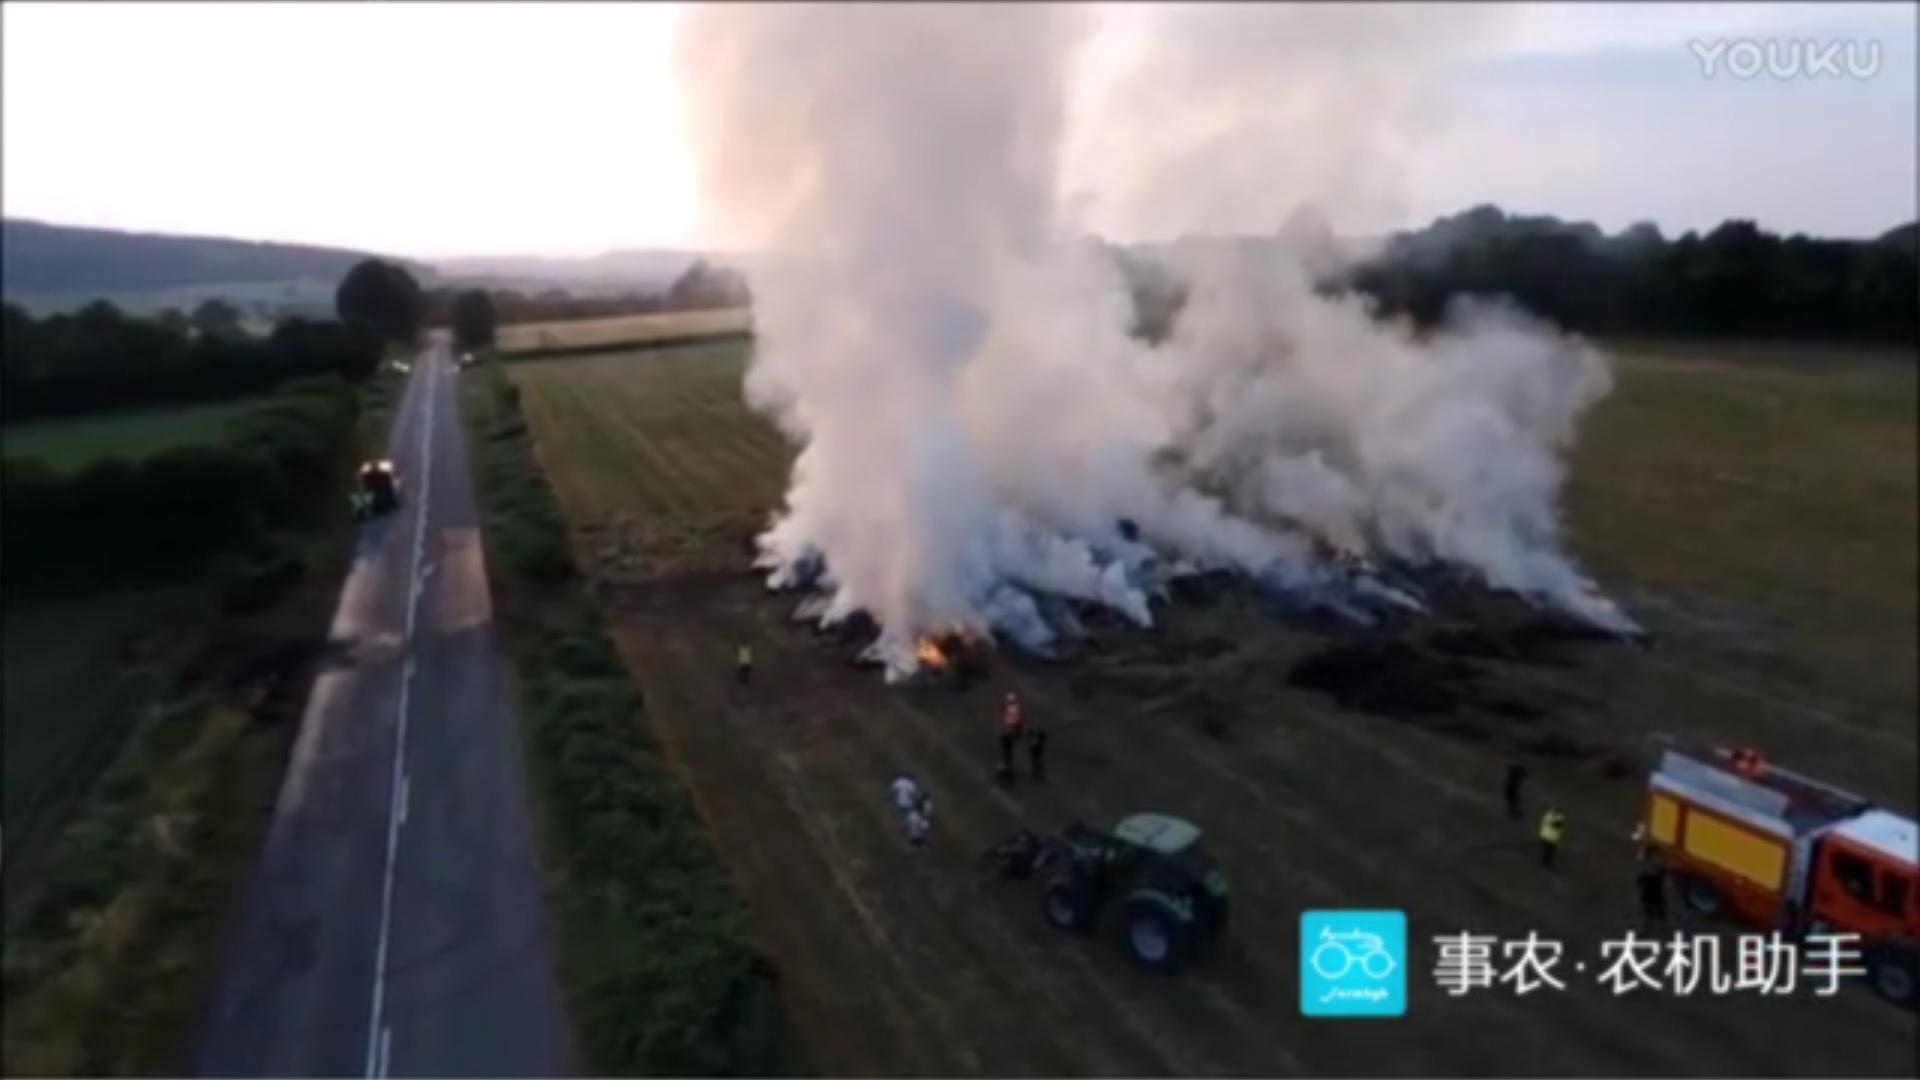fire: (907, 629, 949, 670)
